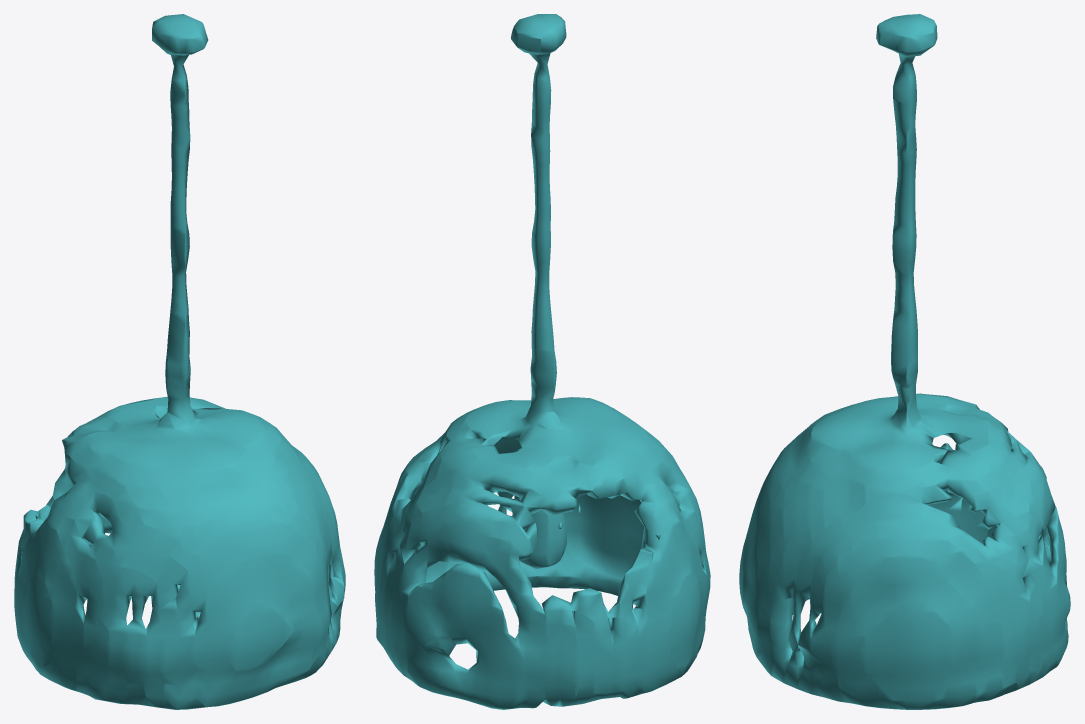
The model's file is lamp_7_4.obj.
The picture shows the model from 3 angles, left to right: view 1: azimuth 30°, elevation 25°; view 2: azimuth 150°, elevation 25°; view 3: azimuth 270°, elevation 25°; orthographic projection.
Bounding box in the file's own units: 0.3914 × 0.7991 × 0.3807.
